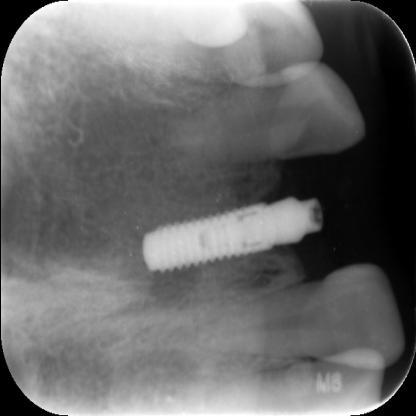ITI: (124, 179, 268, 297)
